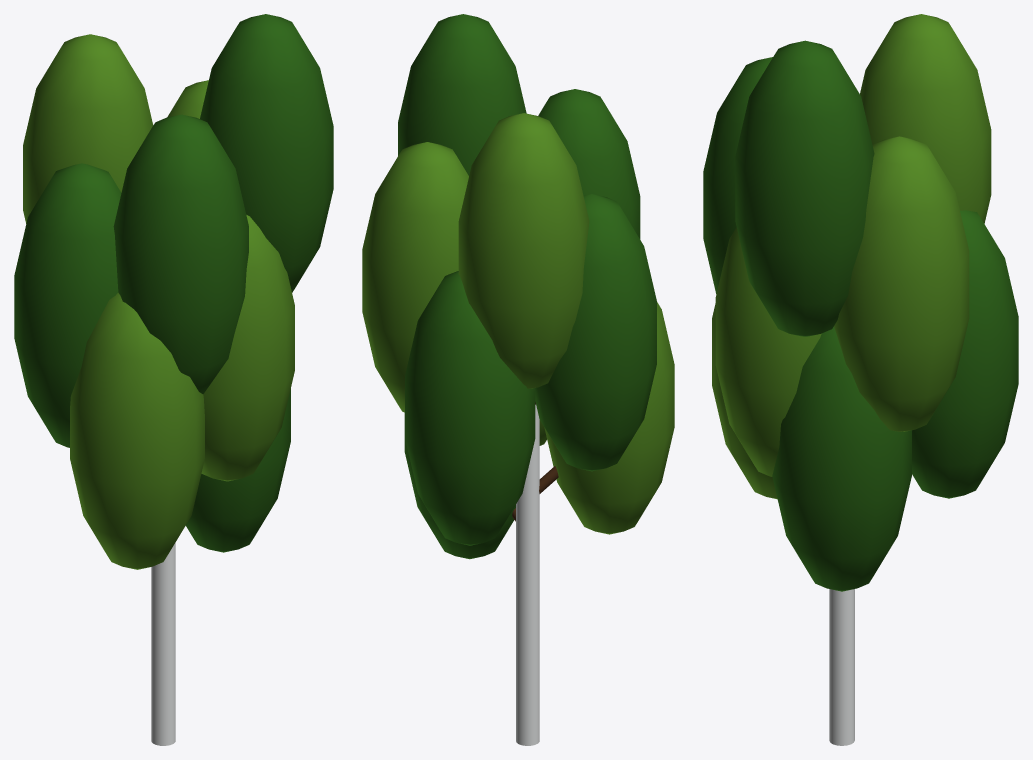
File: Nyirfa.obj
The picture shows the model from 3 angles, left to right: view 1: azimuth 30°, elevation 25°; view 2: azimuth 150°, elevation 25°; view 3: azimuth 270°, elevation 25°; orthographic projection. The views are drawn at different scales.
Bounding box in the file's own units: 1.93 × 4.81 × 1.85.
